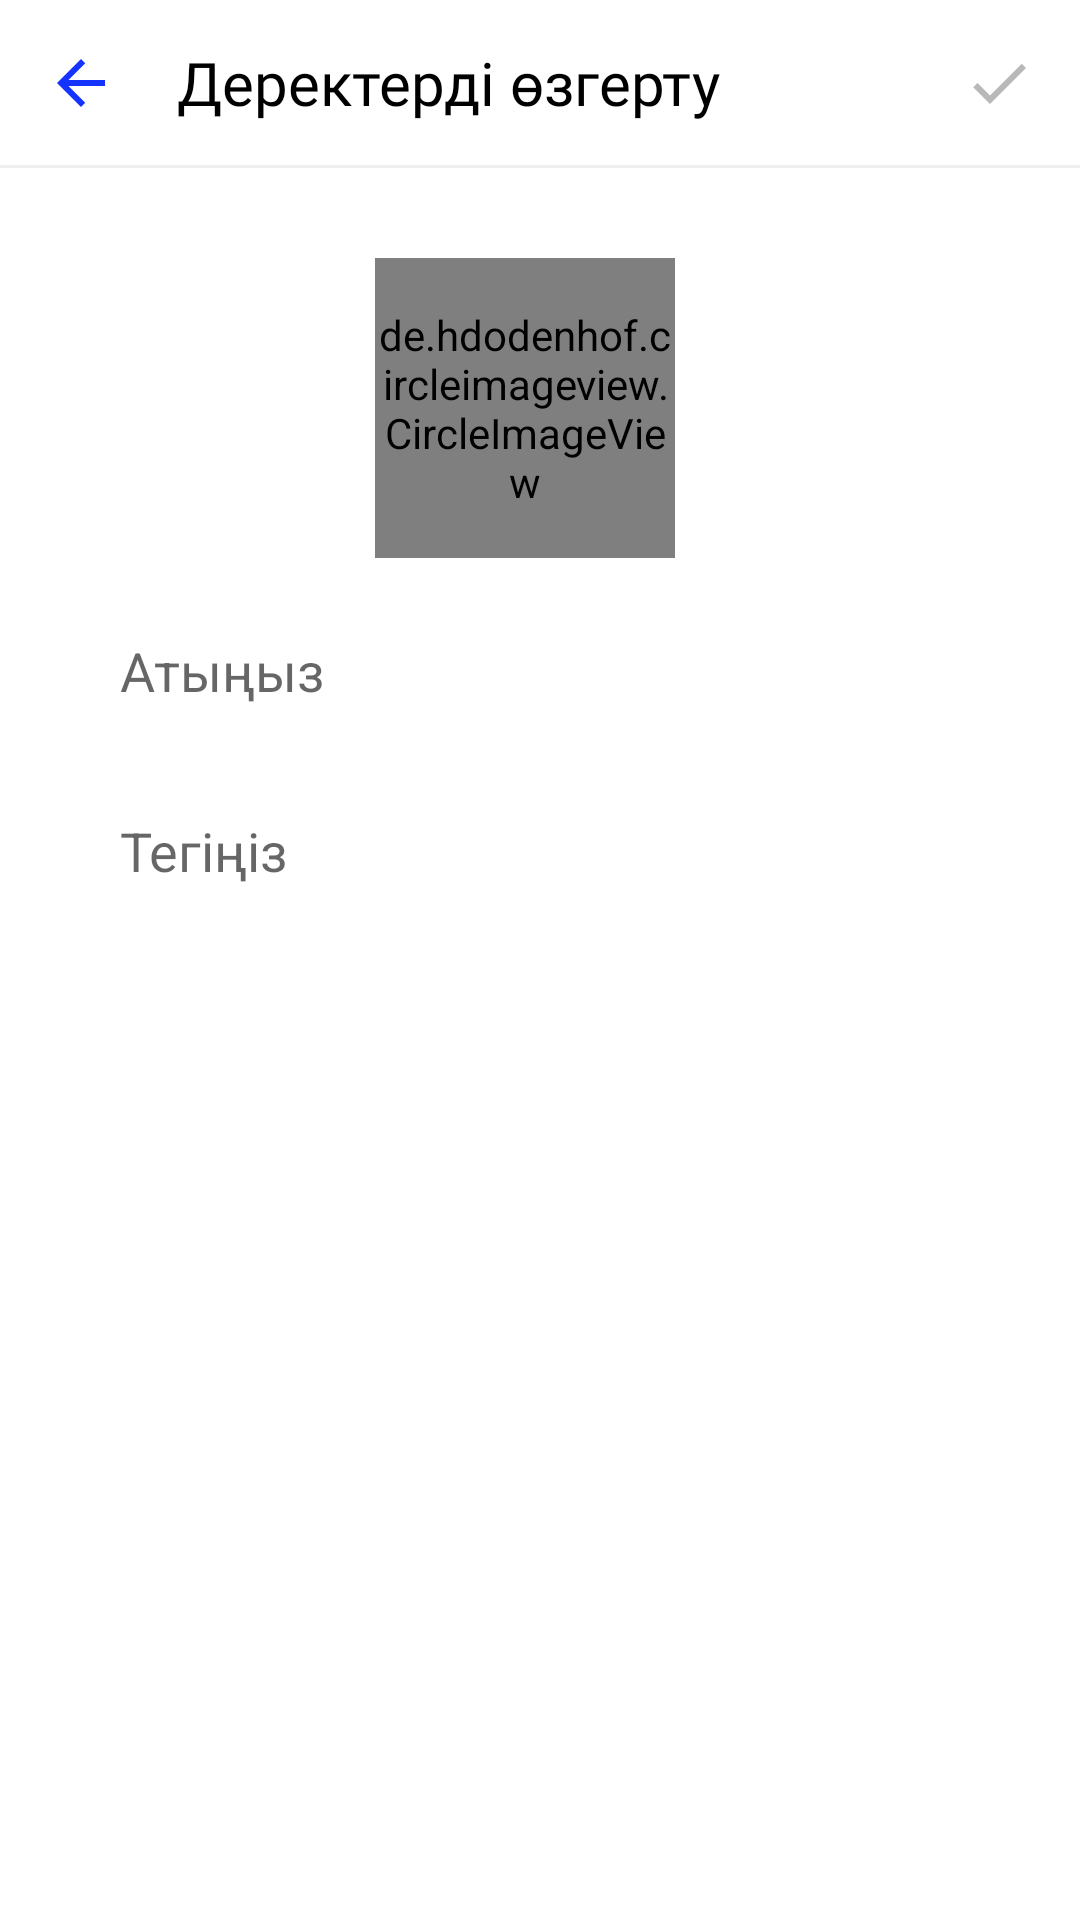

Named icons in this screenshot (1080w x 1920h) and their centers, (x,y):
back: (81,83)
check: (999,84)
